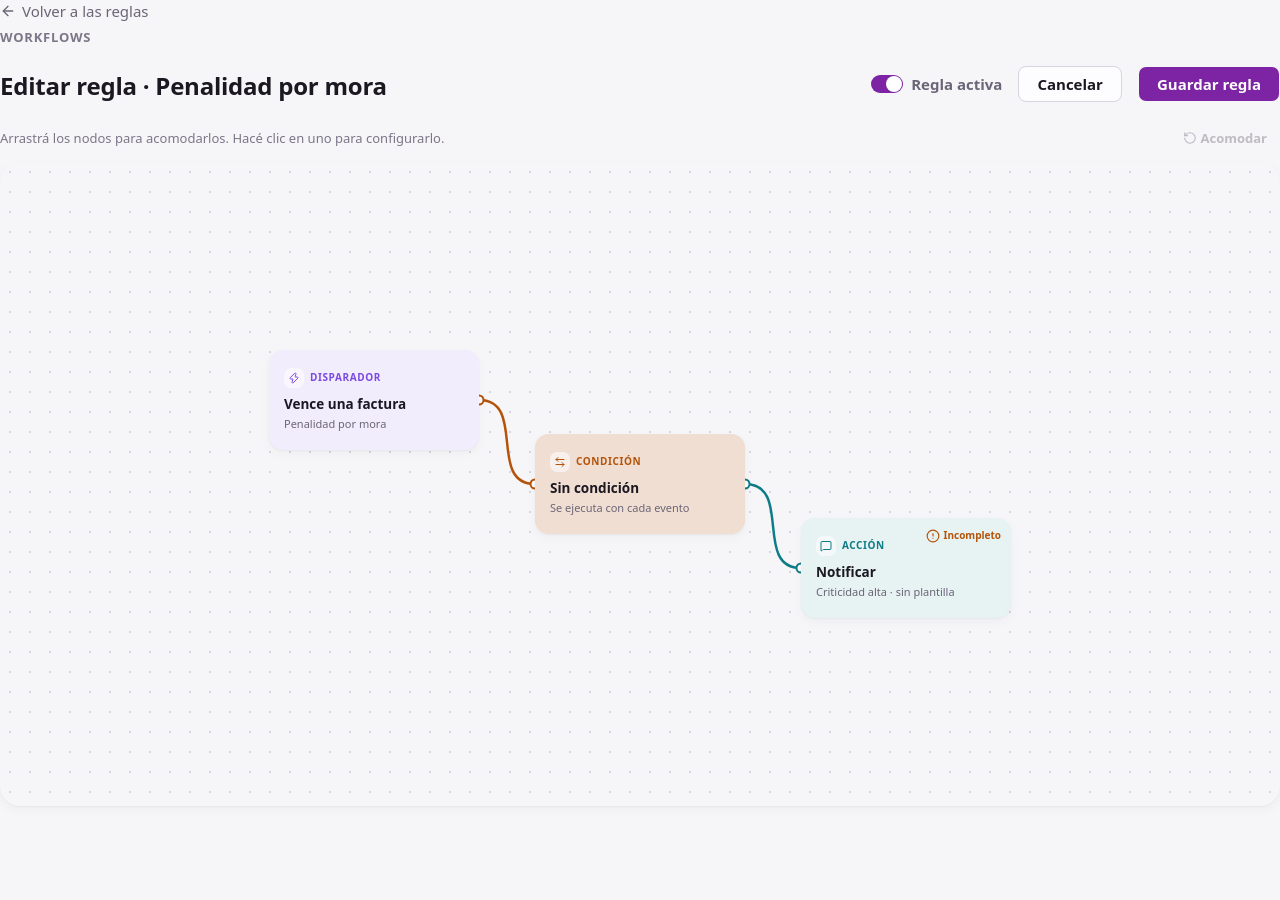
Test case: ReglaWorkflowEditorPage › plantilla y destinatarios › avisa que notificar sin plantilla no se envía
The width and height of the screenshot is (1280, 900).
Click the button "Acción Notificar Criticidad alta · sin plantilla Incompleto".
click(906, 568)  # box left=801, top=518, right=1011, bottom=618
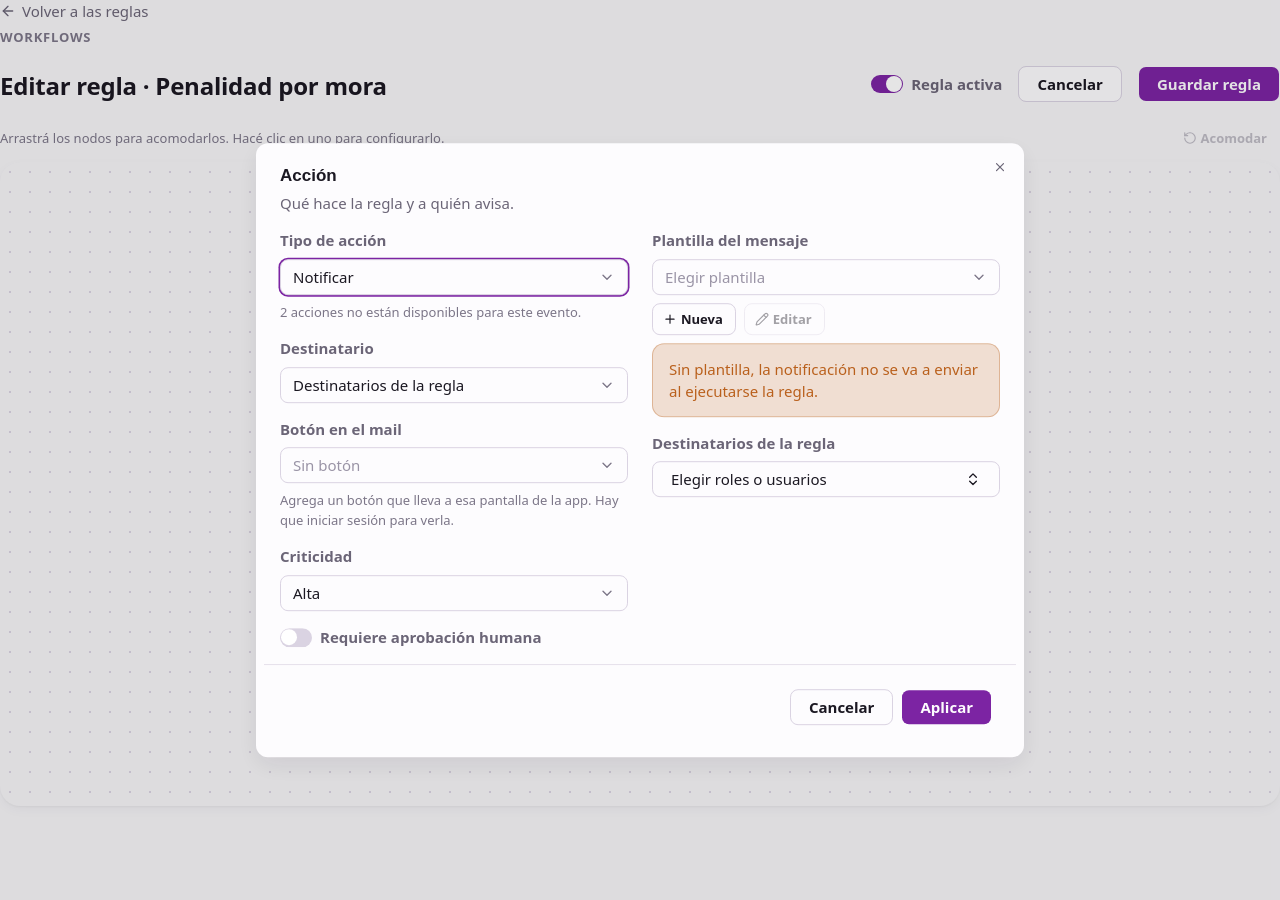
Check: the text "la notificación no se va a enviar" is shown, box left=669, top=359, right=978, bottom=401
